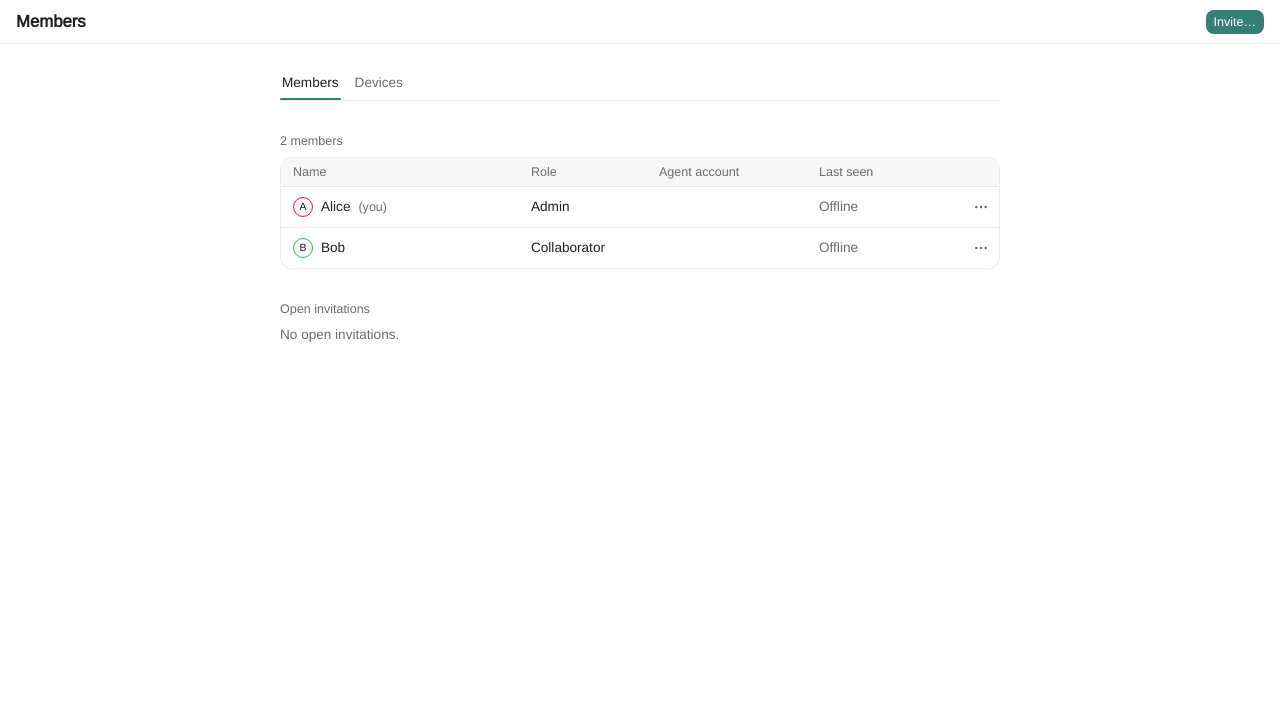
Test: members page › shows the one-time invite code from the server
Click the button named "Invite…".
click(1235, 22)  # box [1206,10,1264,34]
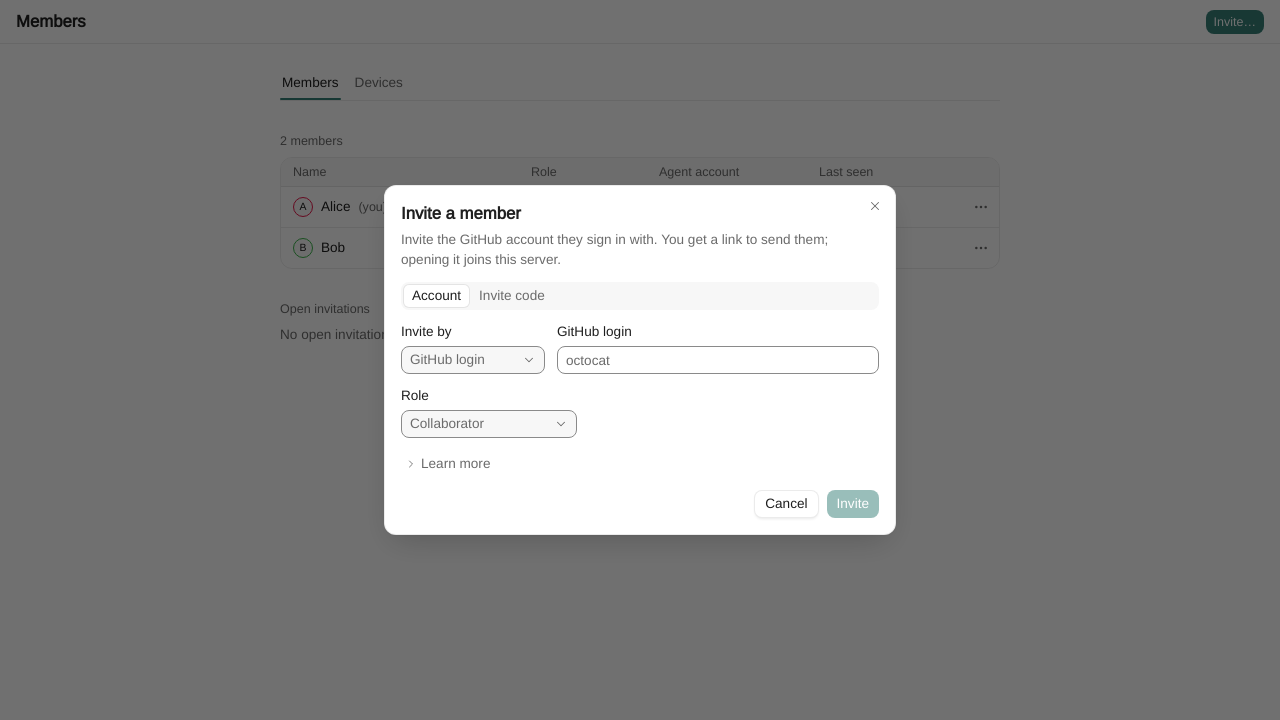
Press Enter
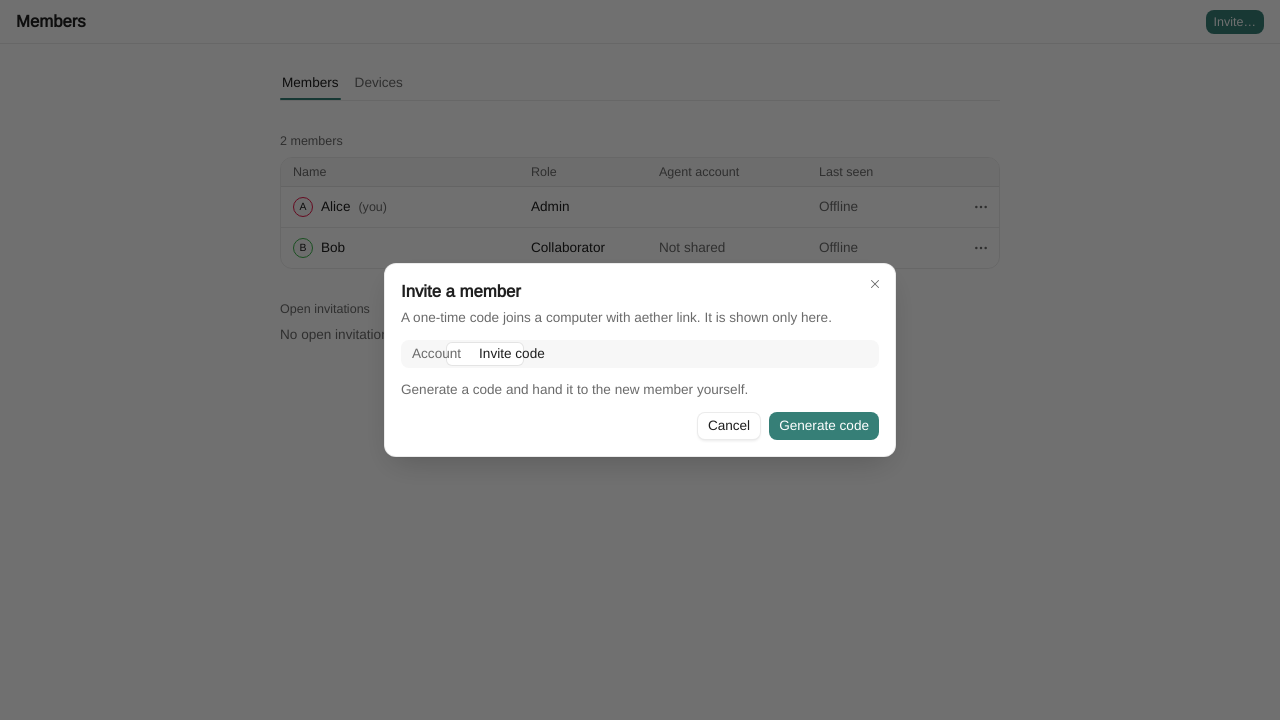
Click the 2nd button named "Generate code".
click(824, 426)  # box [769,412,879,440]
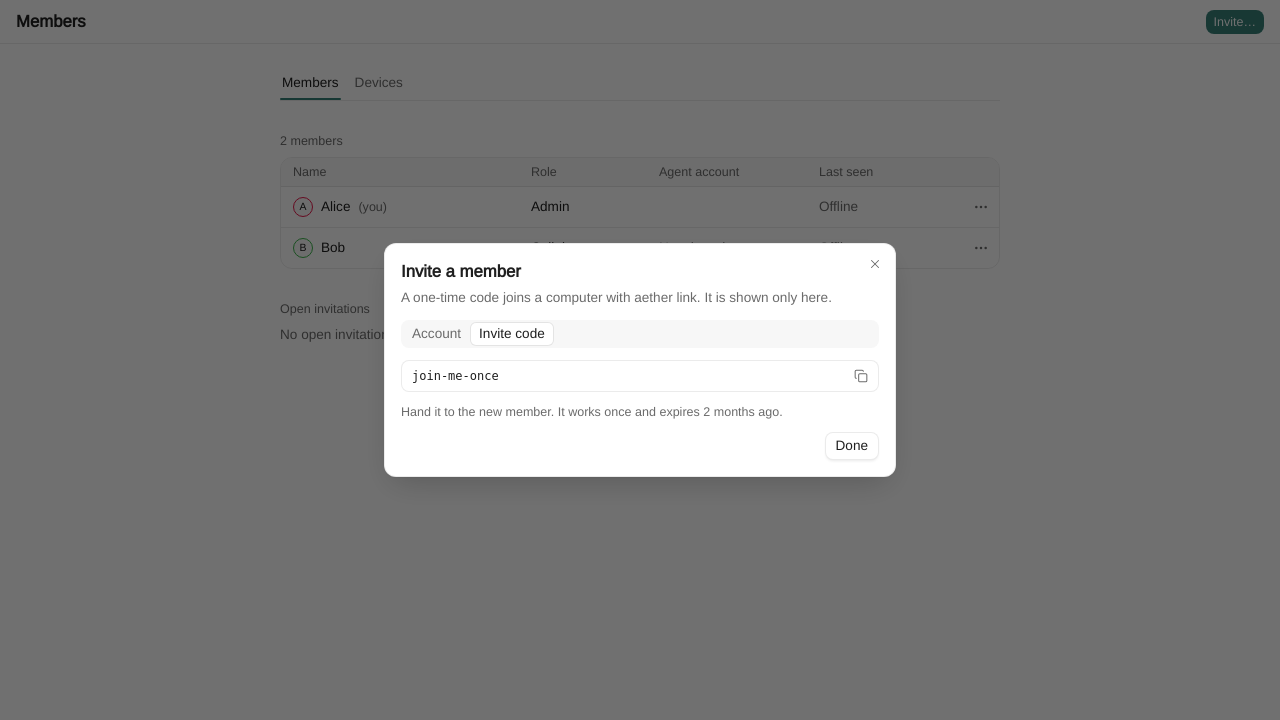
Now the text "join-me-once" is shown, box [412,369,499,383]
